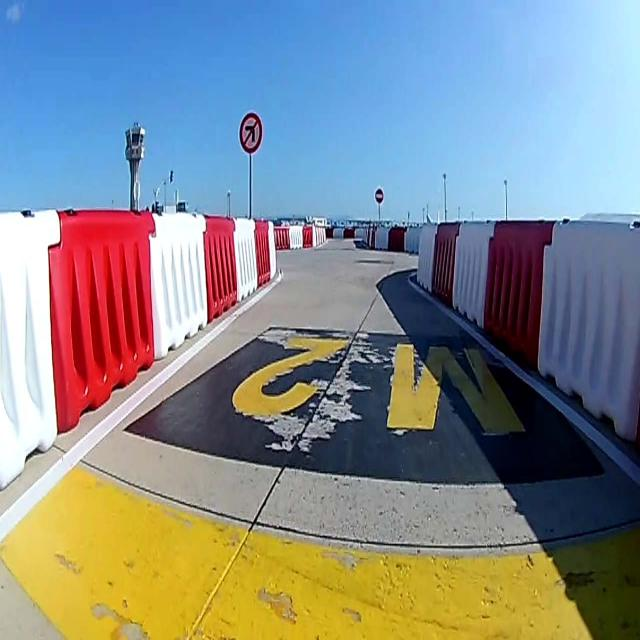soladonulmez: (240, 112, 262, 153)
